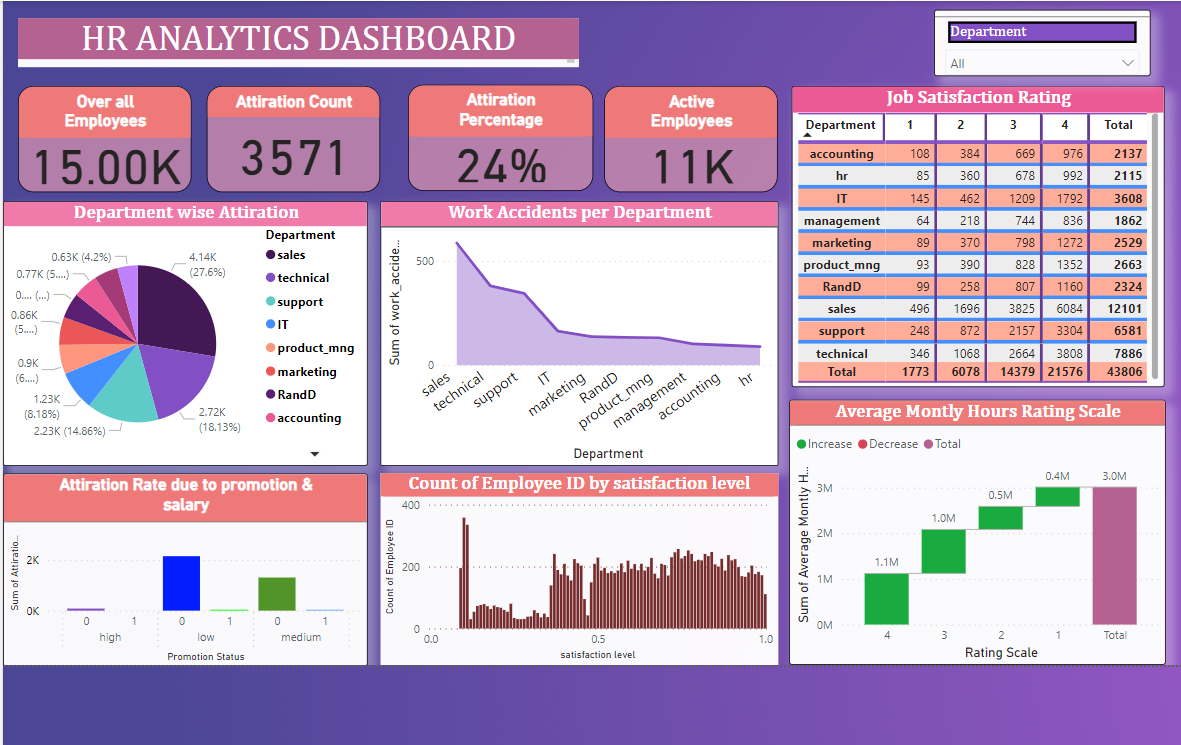

The dashboard page shown, as its layout file describes it:
{"tool":"powerbi","page":{"name":"Page 1","canvas":[1280,720],"ordinal":0},"visuals":[{"type":"card","title":"Over all Employees","fields":{"Values":["CountNonNull(Sheet1.Employee ID)"]},"box":[16.5,91.9,188,115.3],"z":0},{"type":"pieChart","title":"Department wise Attiration","fields":{"Category":["Sheet1.Department "],"Y":["CountNonNull(Sheet1.Attiration Rate)"]},"box":[0,216.8,395.6,287.2],"z":1000},{"type":"stackedAreaChart","title":"Work Accidents per Department ","fields":{"Category":["Sheet1.Department "],"Y":["Sum(Sheet1.work_accident)"]},"box":[409.1,216.8,430.8,287.2],"z":2000},{"type":"waterfallChart","title":" Average Montly Hours Rating Scale","fields":{"Category":["Sheet1.Rating Scale"],"Y":["Sum(Sheet1.Average Montly Hours)"]},"box":[852.2,432.2,407.8,287.2],"z":3000},{"type":"clusteredColumnChart","title":"Attiration Rate due to promotion & salary","fields":{"Category":["Sheet1.salary","Sheet1.Promotion Status"],"Y":["Sum(Sheet1.Attiration Rate)"]},"box":[0,512.1,395.6,208.6],"z":4000},{"type":"pivotTable","title":"Job Satisfaction Rating","fields":{"Rows":["Sheet1.Department "],"Columns":["Sheet1.Rating Scale"],"Values":["Sum(Sheet1.Rating Scale)"]},"box":[854.9,92.1,403.7,326.5],"z":5000},{"type":"card","title":"Attiration Count","fields":{"Values":["Sum(Sheet1.Attiration Rate)"]},"box":[220.9,91.9,188,115.3],"z":6000},{"type":"card","title":"Attiration Percentage","fields":{"Values":["Sheet1.Attiration percentage"]},"box":[439,90.8,200.5,115.2],"z":7000},{"type":"card","title":"Active Employees","fields":{"Values":["Sheet1.Active Employees"]},"box":[651.7,92.1,188.3,115.2],"z":8000},{"type":"clusteredColumnChart","fields":{"Y":["CountNonNull(Sheet1.Employee ID)"],"Category":["Sheet1.satisfaction level"]},"box":[409.1,512.1,430.8,208],"z":9000},{"type":"textbox","title":"HR ANALYTICS DASHBOARD ","box":[16.3,19,608.3,52.8],"z":10000},{"type":"slicer","fields":{"Values":["Sheet1.Department "]},"box":[1009.3,9.5,234.4,71.8],"z":11000}]}

Visuals, with their boxes in screenshot pixels (x1, y1, x2, y2):
"Over all Employees" card: select_region(27, 87, 198, 192)
"Department wise Attiration" pieChart: select_region(12, 200, 372, 462)
"Work Accidents per Department " stackedAreaChart: select_region(385, 200, 777, 462)
" Average Montly Hours Rating Scale" waterfallChart: select_region(788, 396, 1159, 658)
"Attiration Rate due to promotion & salary" clusteredColumnChart: select_region(12, 469, 372, 659)
"Job Satisfaction Rating" pivotTable: select_region(790, 87, 1158, 384)
"Attiration Count" card: select_region(213, 87, 384, 192)
"Attiration Percentage" card: select_region(412, 86, 594, 191)
"Active Employees" card: select_region(605, 87, 777, 192)
clusteredColumnChart - CountNonNull(Sheet1.Employee ID) x Sheet1.satisfaction level: select_region(385, 469, 777, 658)
"HR ANALYTICS DASHBOARD " textbox: select_region(27, 20, 581, 68)
slicer - Sheet1.Department : select_region(931, 12, 1144, 77)
